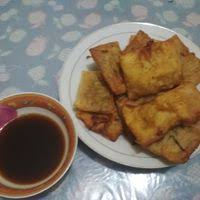Martabak telur: (114, 80, 200, 149), (117, 46, 186, 95), (77, 68, 116, 119)
